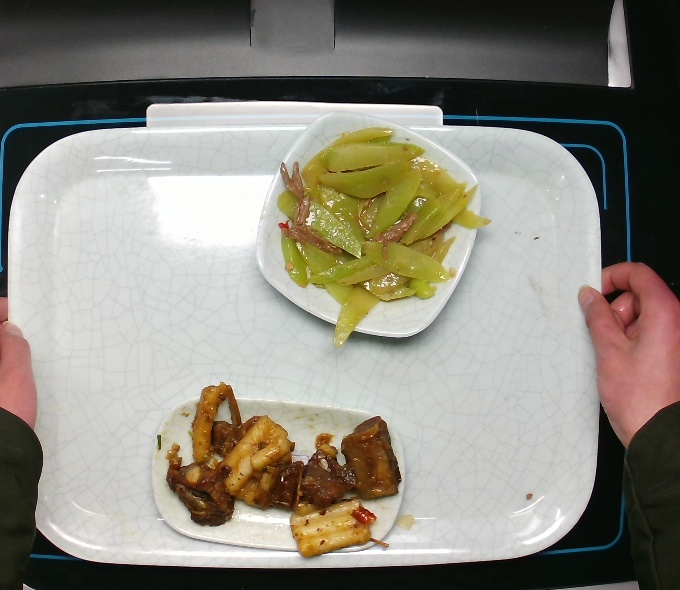wcq-NianGaoZaiPai: (163, 381, 405, 559)
wcq-WoSun: (269, 124, 495, 352)
